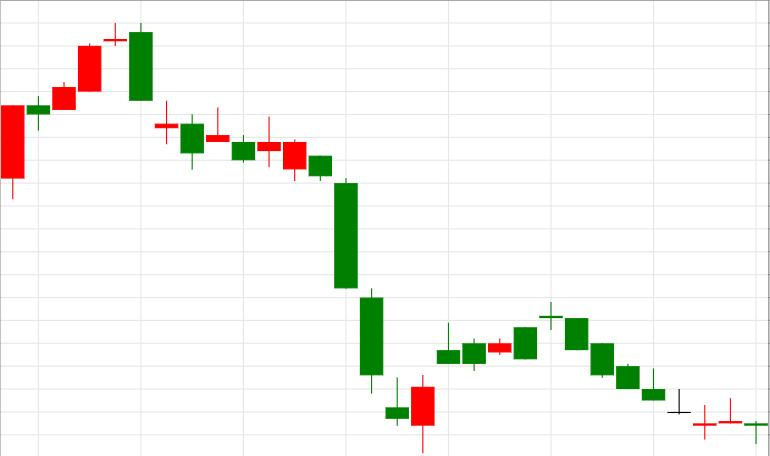bullish_engulfing_rise: (309, 155, 434, 454)
